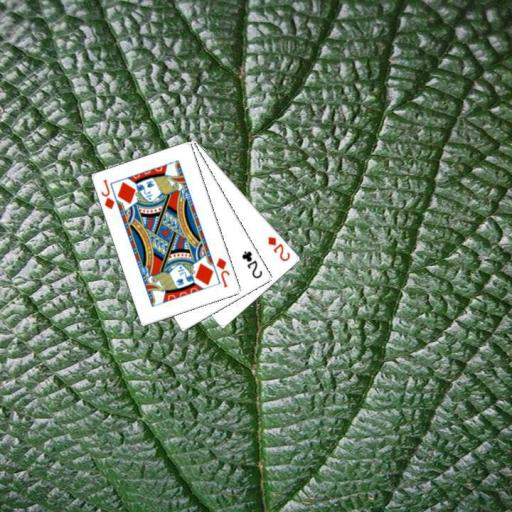2C: (239, 248, 264, 280)
2D: (265, 233, 292, 263)
JD: (98, 177, 117, 212), (213, 255, 231, 289)
